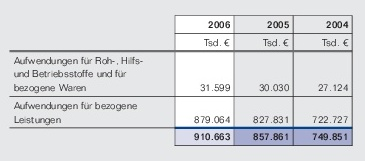table: (0, 0, 365, 161)
